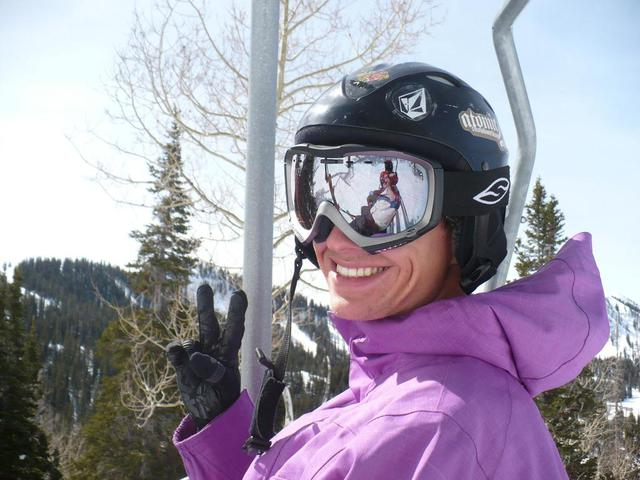helmet: (288, 66, 513, 267)
